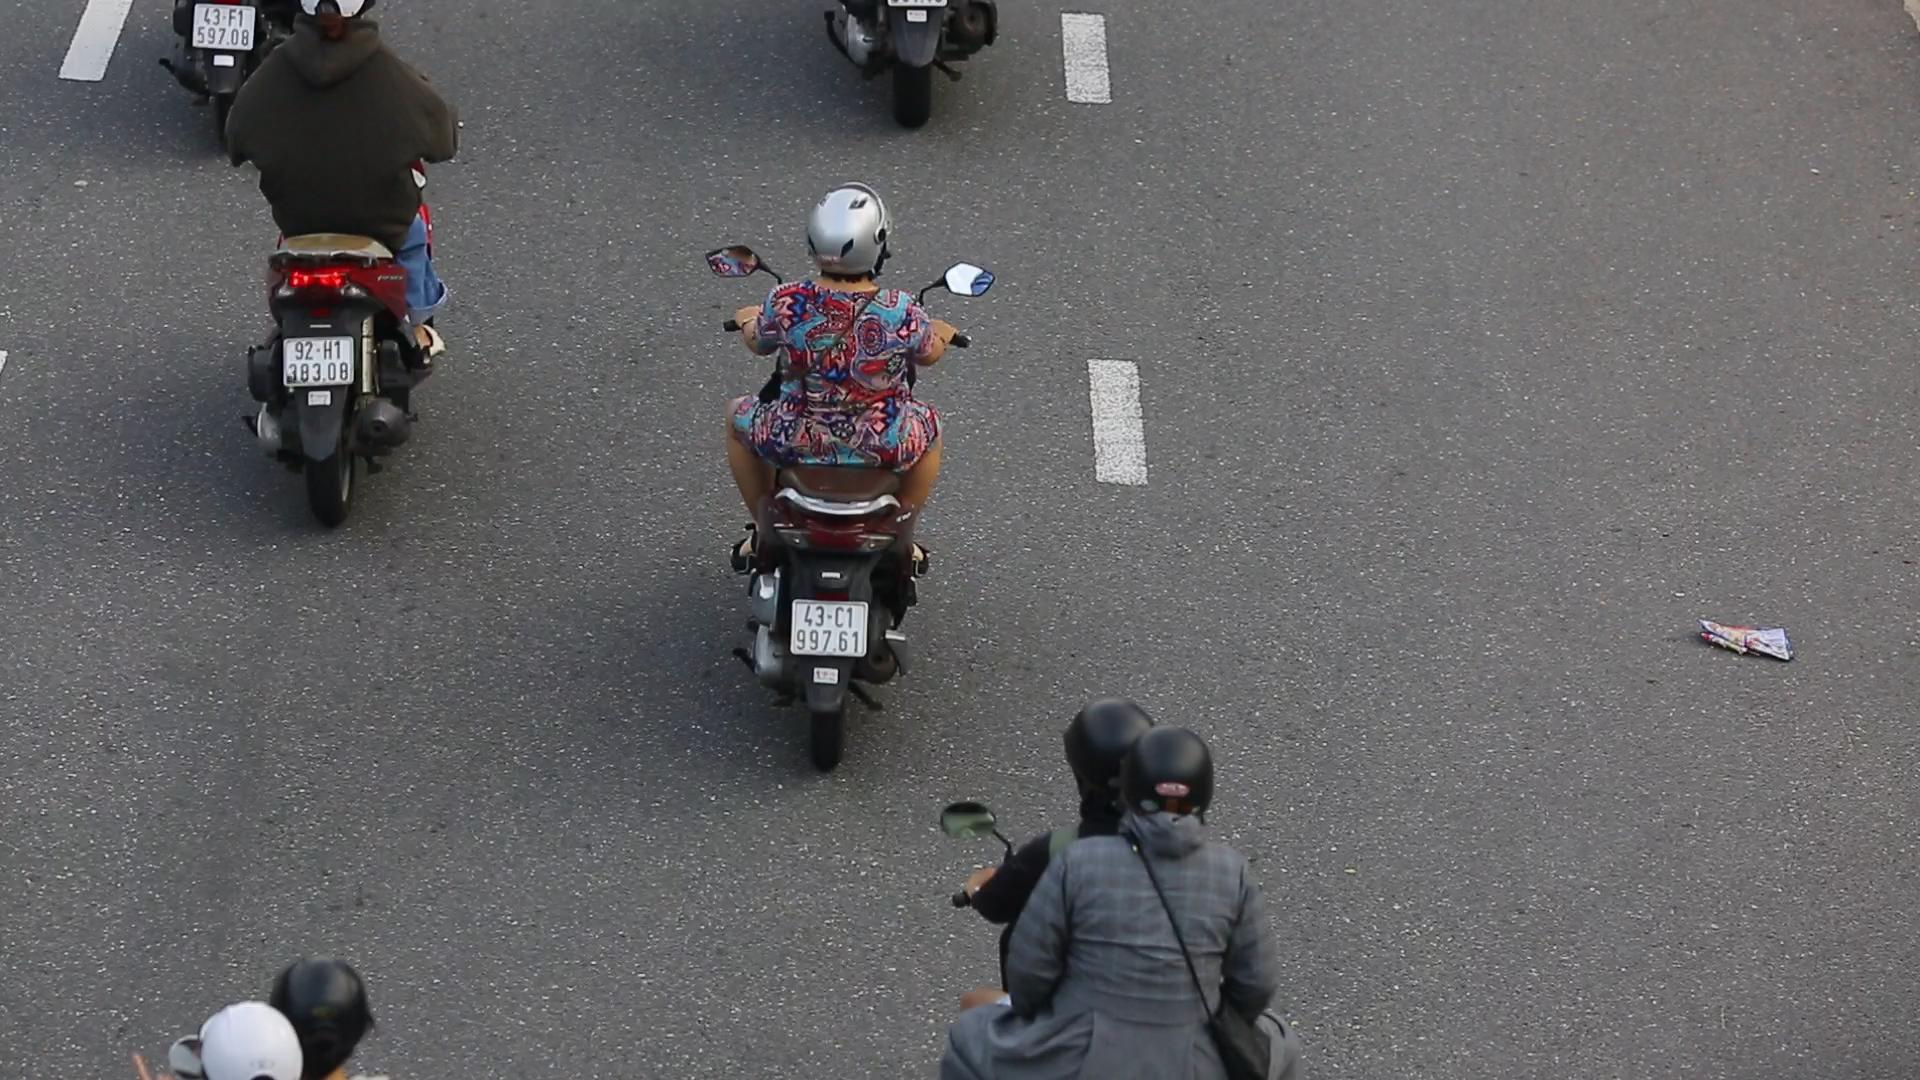motobike: (708, 173, 997, 782)
